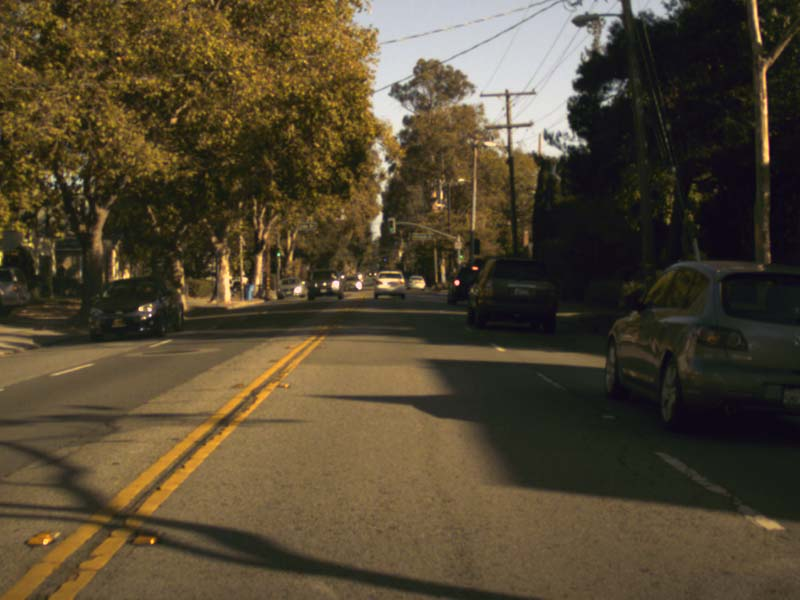Green: (387, 217, 395, 233), (274, 248, 280, 258), (458, 249, 462, 260)
